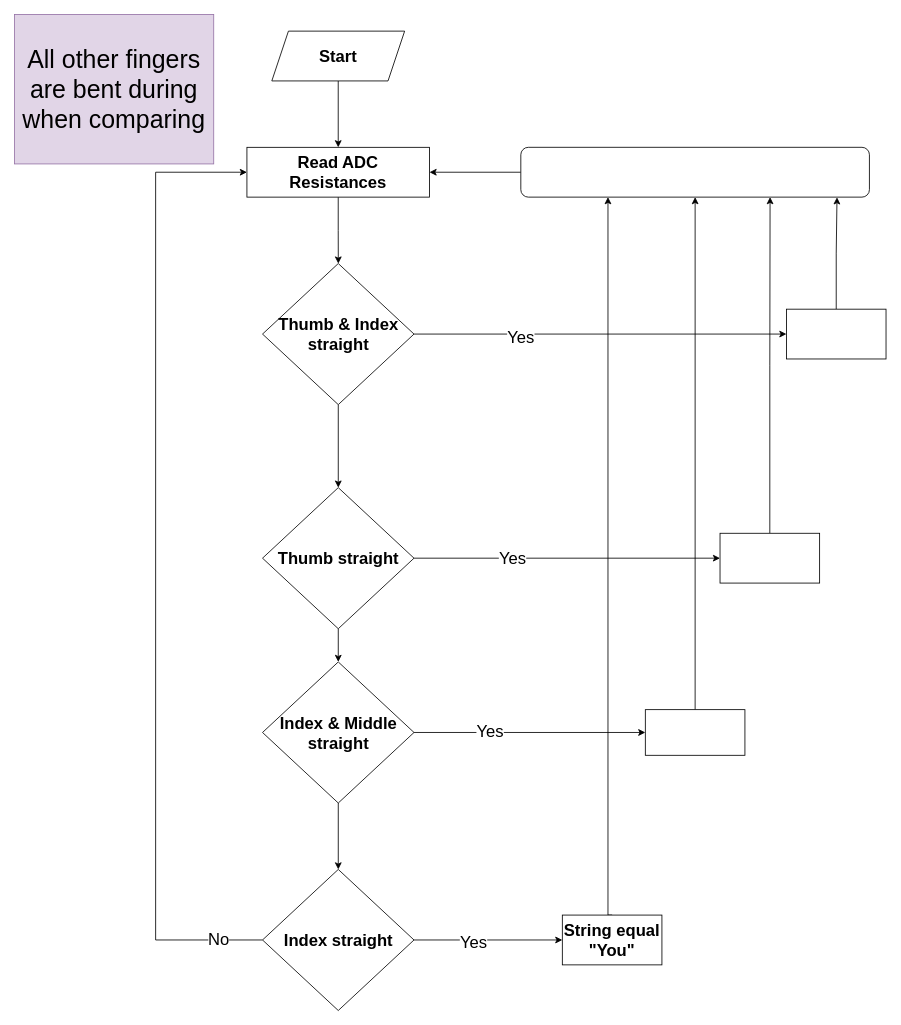
The diagram is 901 pixels wide and 1025 high, and some of its shapes have lost their labels. The shapes that lost their labels are listed below. From the top down, each one's centre as x and y in pixels, then its label:
(x=694, y=171): LCD Print String
(x=836, y=333): String equal "Awesome"
(x=769, y=557): String equal "Good Job"
(x=694, y=732): String equal "I see you"
